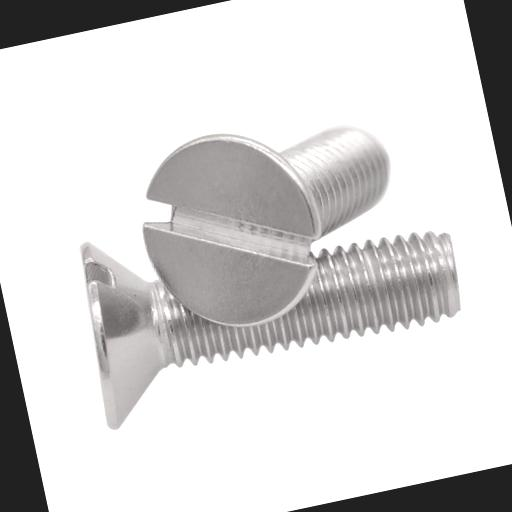Slotted: (126, 114, 334, 344)
